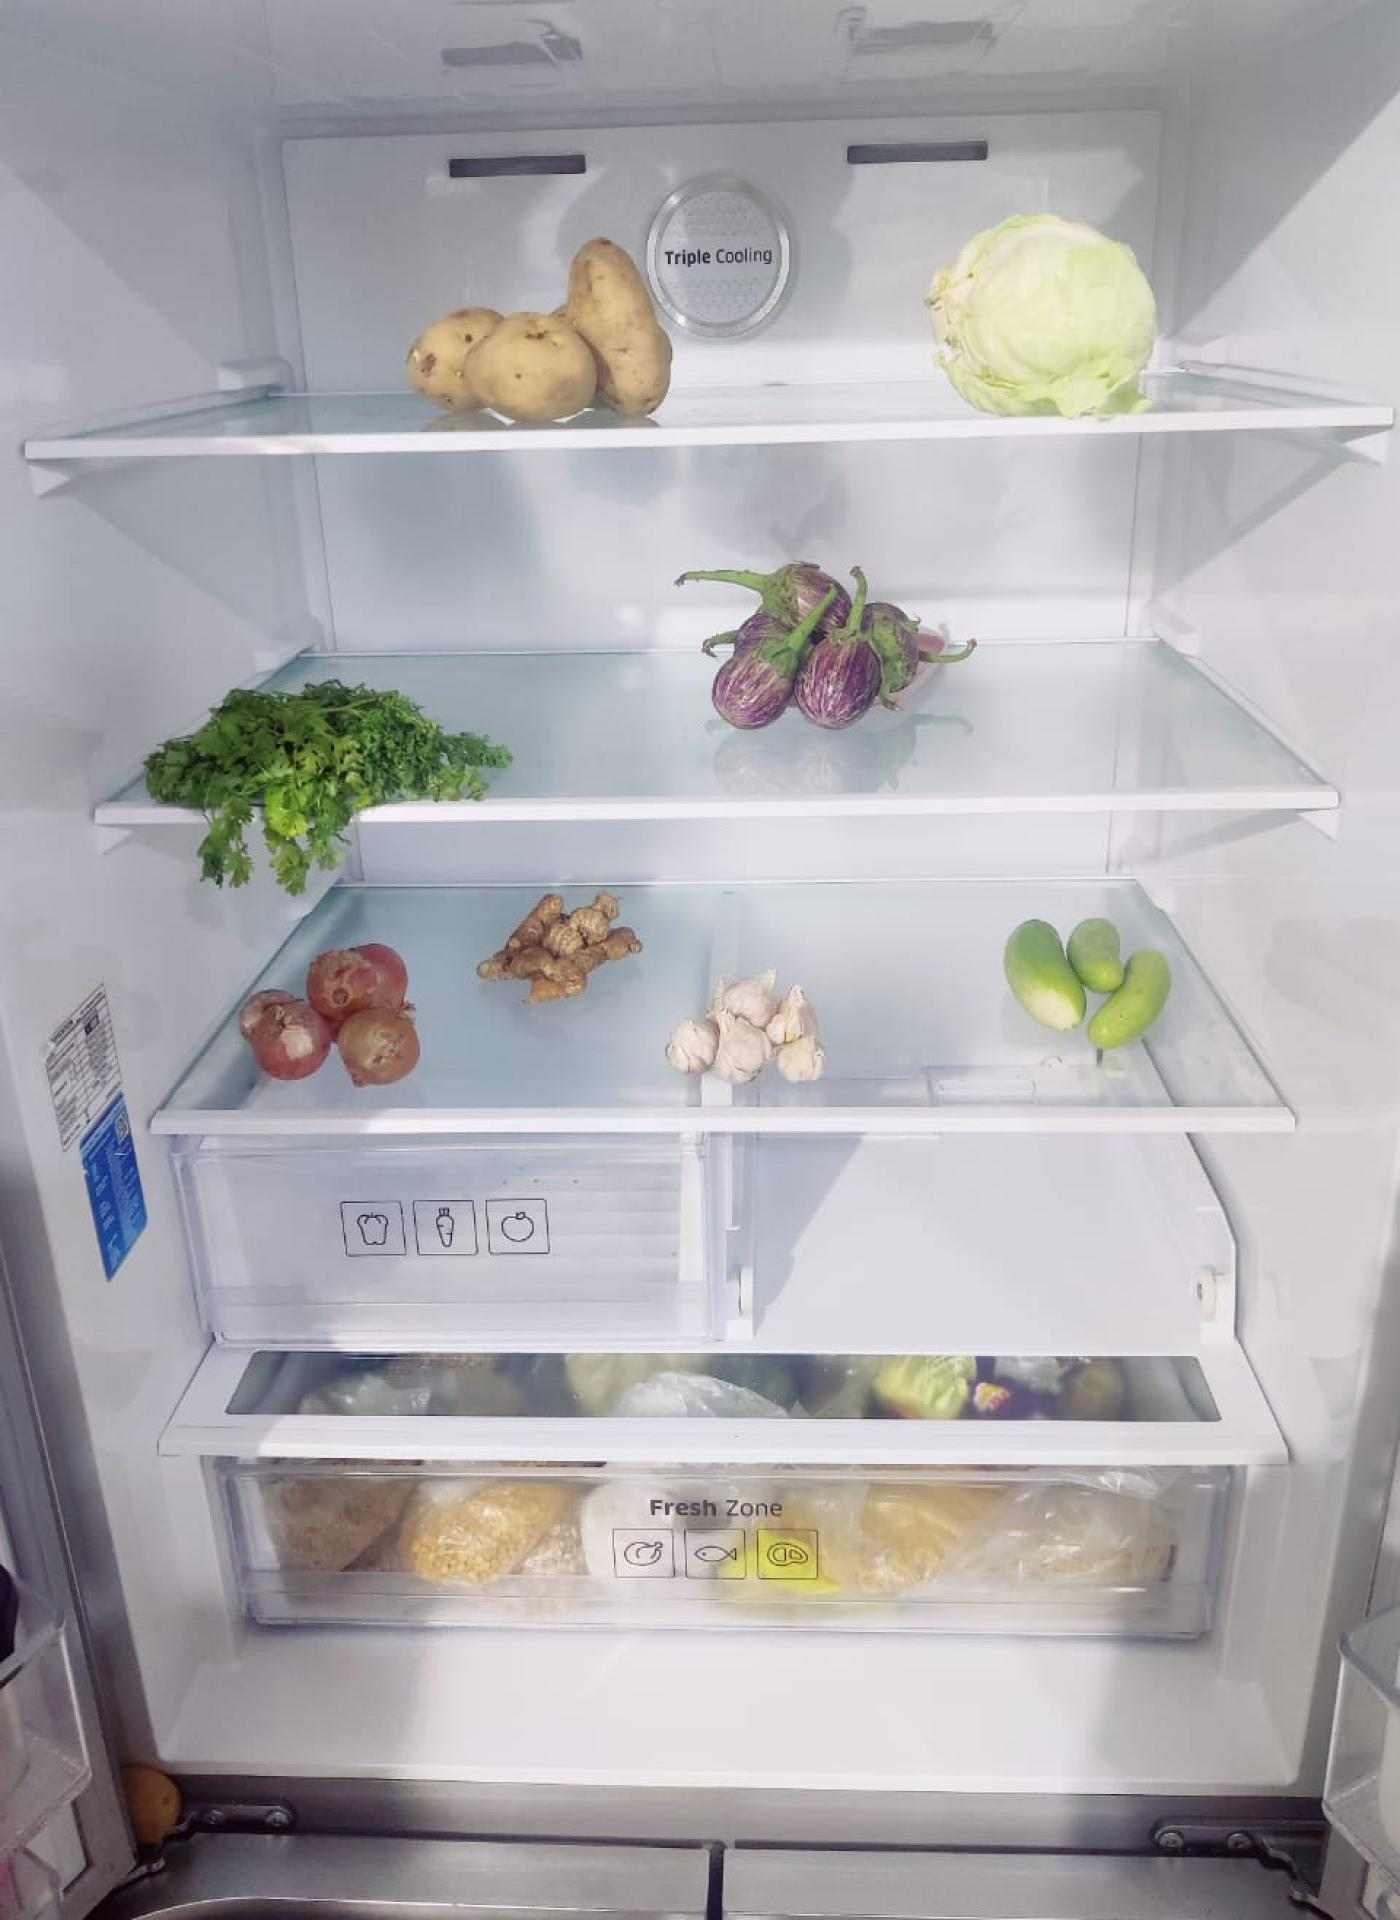brinjal: (707, 562, 939, 726)
cabbage: (933, 209, 1164, 416)
coriander: (148, 687, 492, 845)
cucumber: (1003, 909, 1175, 1045)
garlic: (671, 967, 832, 1088)
ginger: (479, 890, 640, 1000)
onion: (242, 942, 420, 1087)
potato: (410, 246, 677, 426)
